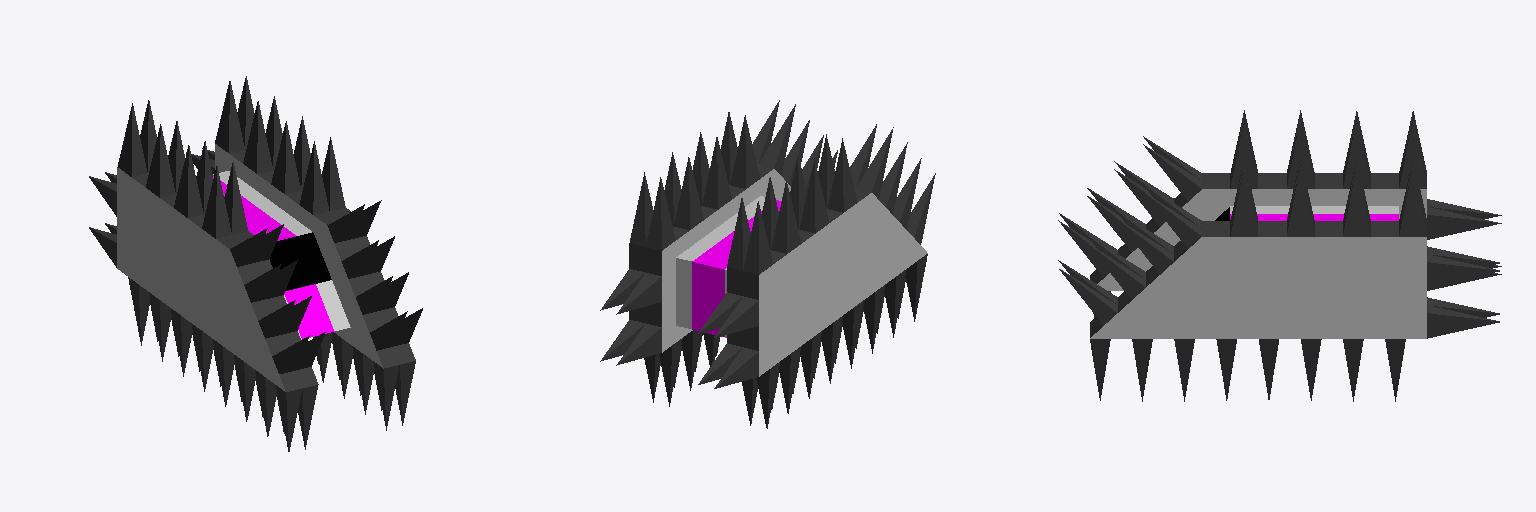
File: tank2.obj
3 views of the same model, side by side, from view 1: azimuth 30°, elevation 25°; view 2: azimuth 150°, elevation 25°; view 3: azimuth 270°, elevation 25° (orthographic).
Visible parts, largest first — view 1: Cube; view 2: Cube; view 3: Cube.
Part boxes in pixels (left/top/right/bottom): Cube: left=89, top=76, right=422, bottom=451; Cube: left=600, top=100, right=935, bottom=428; Cube: left=1058, top=110, right=1501, bottom=401.
Bounding box in the file's own units: 4 × 7 × 11.85.